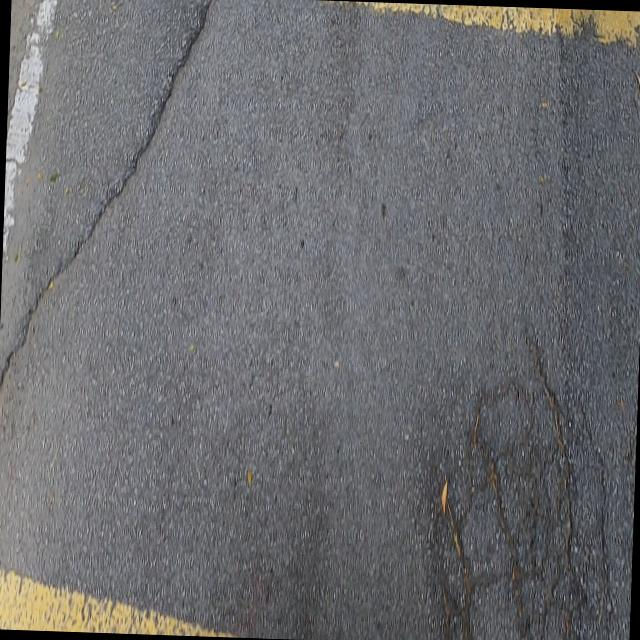Retak-Buaya: (421, 322, 617, 640)
Retak-Memanjang: (0, 0, 212, 387)
